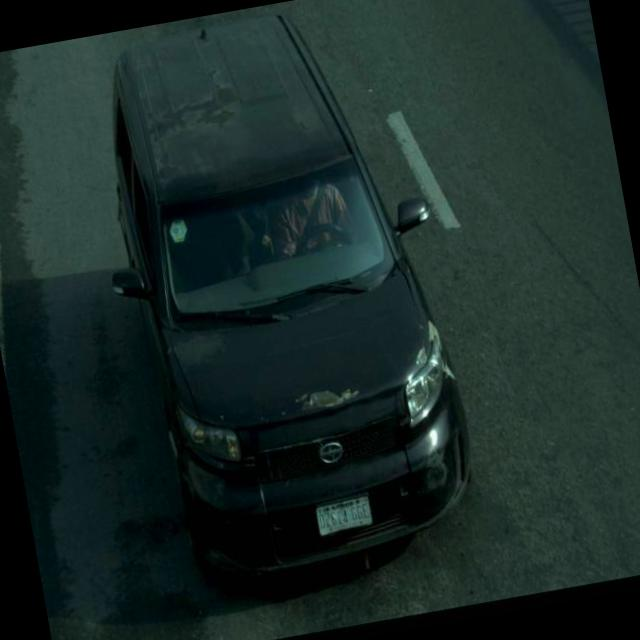person_with_seatbelt: (252, 162, 374, 284)
